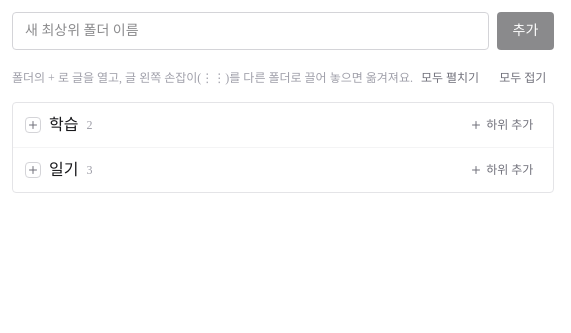
Test: PostMover (글 이동 탭) › 글은 상세로 연결되고, 임시저장 글은 이어 쓰기로 연결되며 각각 표시가 붙는다
Click the button named "일기 펼치기".
click(33, 170)  # box 25,162 -> 41,178
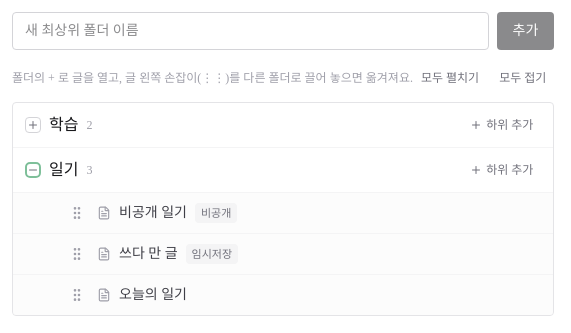
Expected: the text "비공개" is shown, 195,203 -> 237,223
Expected: the text "임시저장" is shown, 186,244 -> 238,264
